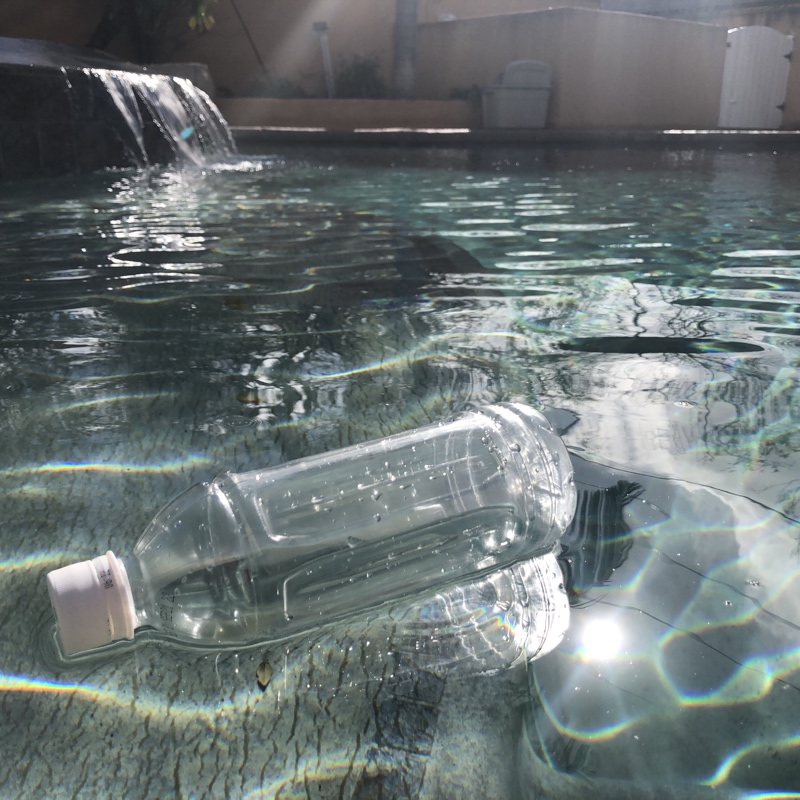Plastic Bottle: (38, 396, 583, 687)
